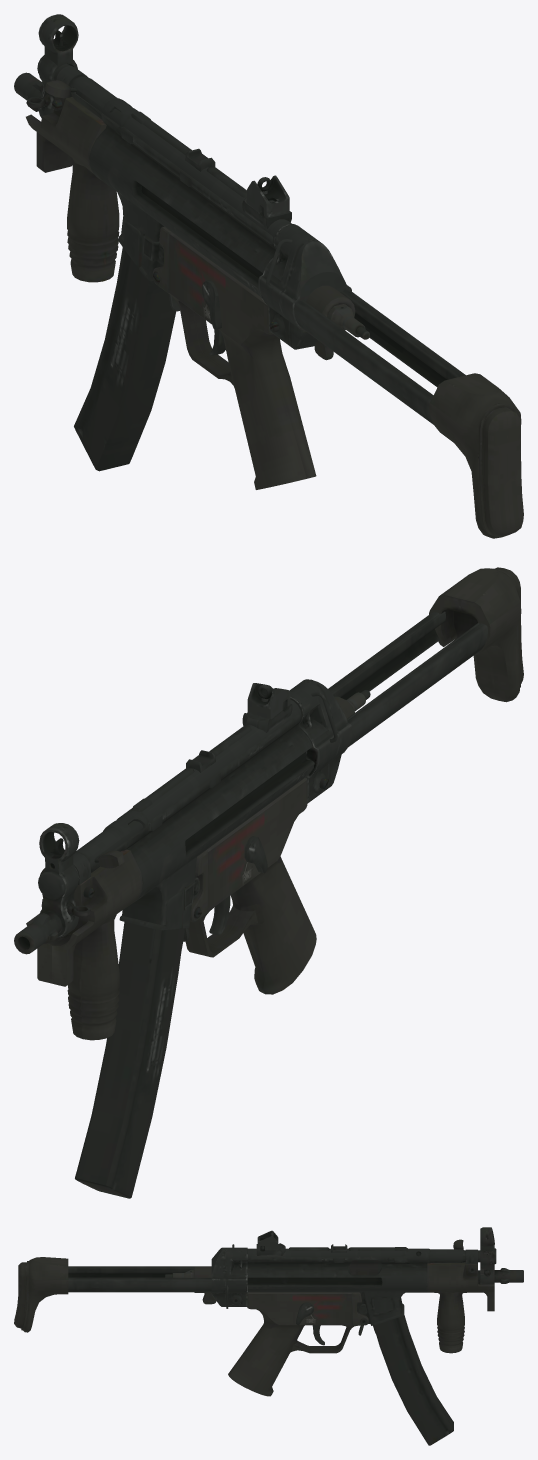
File: reaper.glb
3 renders of one model, top to bottom at view 1: azimuth 30°, elevation 25°; view 2: azimuth 150°, elevation 25°; view 3: azimuth 270°, elevation 25°, orthographic. The views are drawn at different scales.
Visible parts, largest first — view 1: kr5_assembled__0; view 2: kr5_assembled__0; view 3: kr5_assembled__0.
Part boxes in pixels (x1,y1,x2,y2): kr5_assembled__0: [14, 14, 523, 538]; kr5_assembled__0: [14, 567, 523, 1198]; kr5_assembled__0: [14, 1227, 523, 1445].
Size of the model in its own units: 0.0447 by 0.2313 by 0.5.
1 material, 1 textured.
